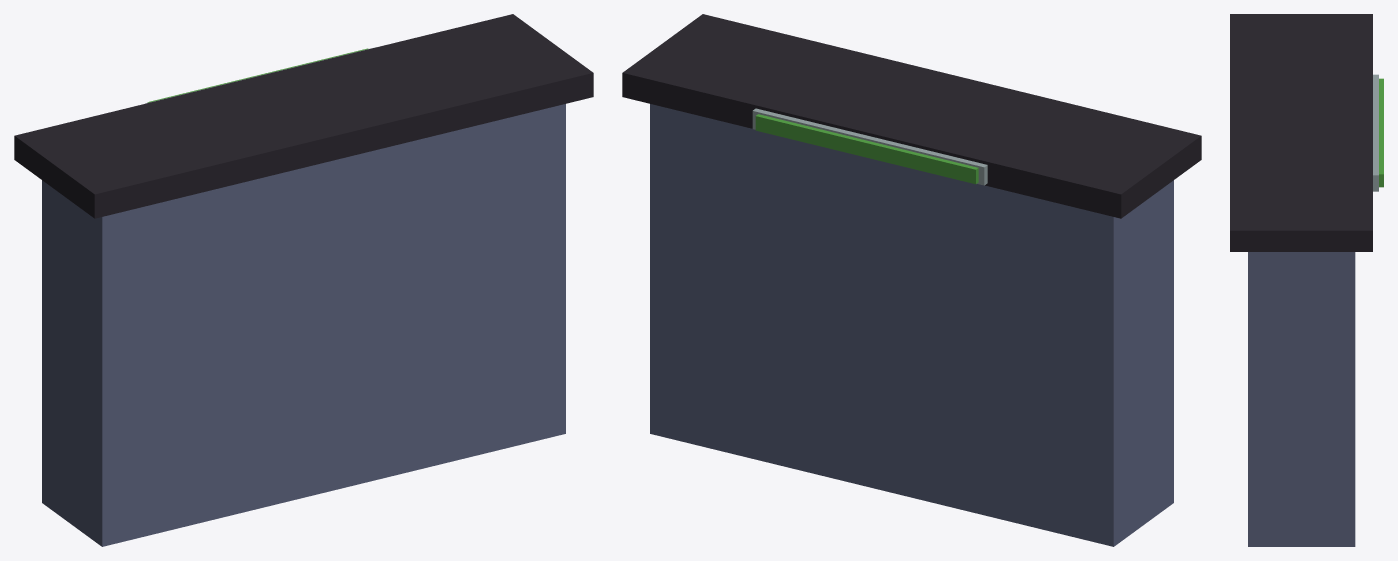
The model's file is door.fbx.
The picture shows the model from 3 angles, left to right: view 1: azimuth 30°, elevation 25°; view 2: azimuth 150°, elevation 25°; view 3: azimuth 270°, elevation 25°; orthographic projection. The views are drawn at different scales.
Parts seen in each view (by area): view 1: Door, DoorFrame; view 2: Door, DoorFrame, 4Light4, 4LightFrame, 3Light1, 1Light1; view 3: DoorFrame, Door, 4LightFrame, 2LightFrame.
Part boxes in pixels (x1,y1,x2,y2): Door: (42,104,565,546); DoorFrame: (14,14,593,218); Door: (650,104,1173,546); DoorFrame: (622,14,1201,218); 4Light4: (929,157,978,184); 4LightFrame: (752,108,987,185); 3Light1: (784,121,830,148); 1Light1: (842,137,888,162); DoorFrame: (1230,14,1372,251); Door: (1248,252,1355,546); 4LightFrame: (1373,74,1378,191); 2LightFrame: (1373,99,1378,149).
Size of the model in its own units: 430 by 300 by 129.
